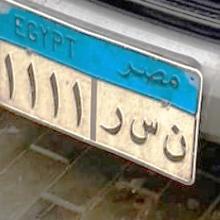1: (66, 79, 88, 131), (23, 60, 40, 110), (46, 69, 62, 120), (2, 52, 17, 103)
noon: (162, 122, 187, 168)
raa: (99, 104, 124, 140)
seen: (129, 114, 159, 154)
